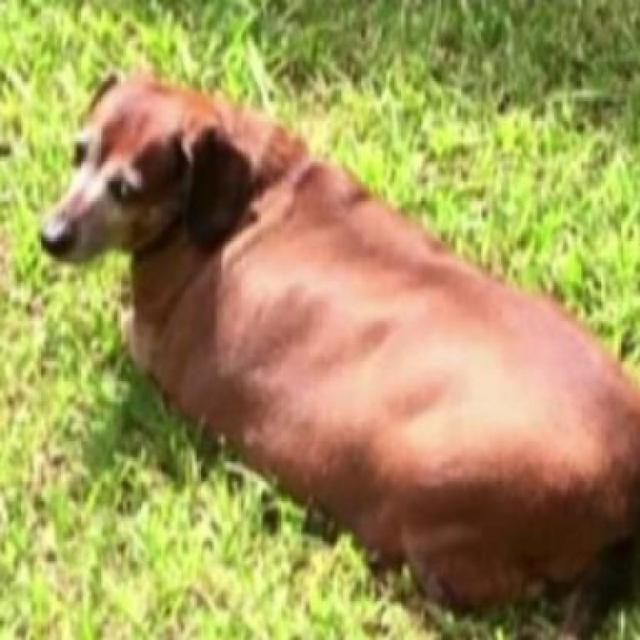Dog: (34, 67, 638, 638)
